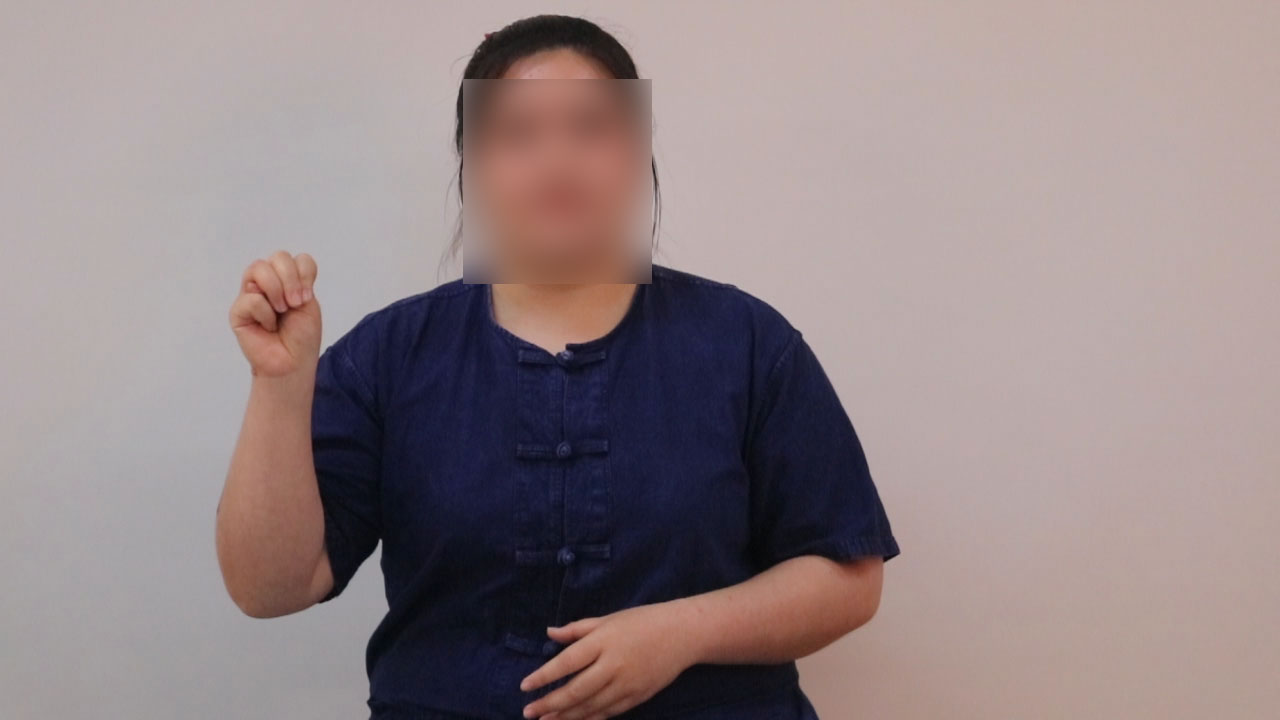mor: (222, 240, 337, 391)
